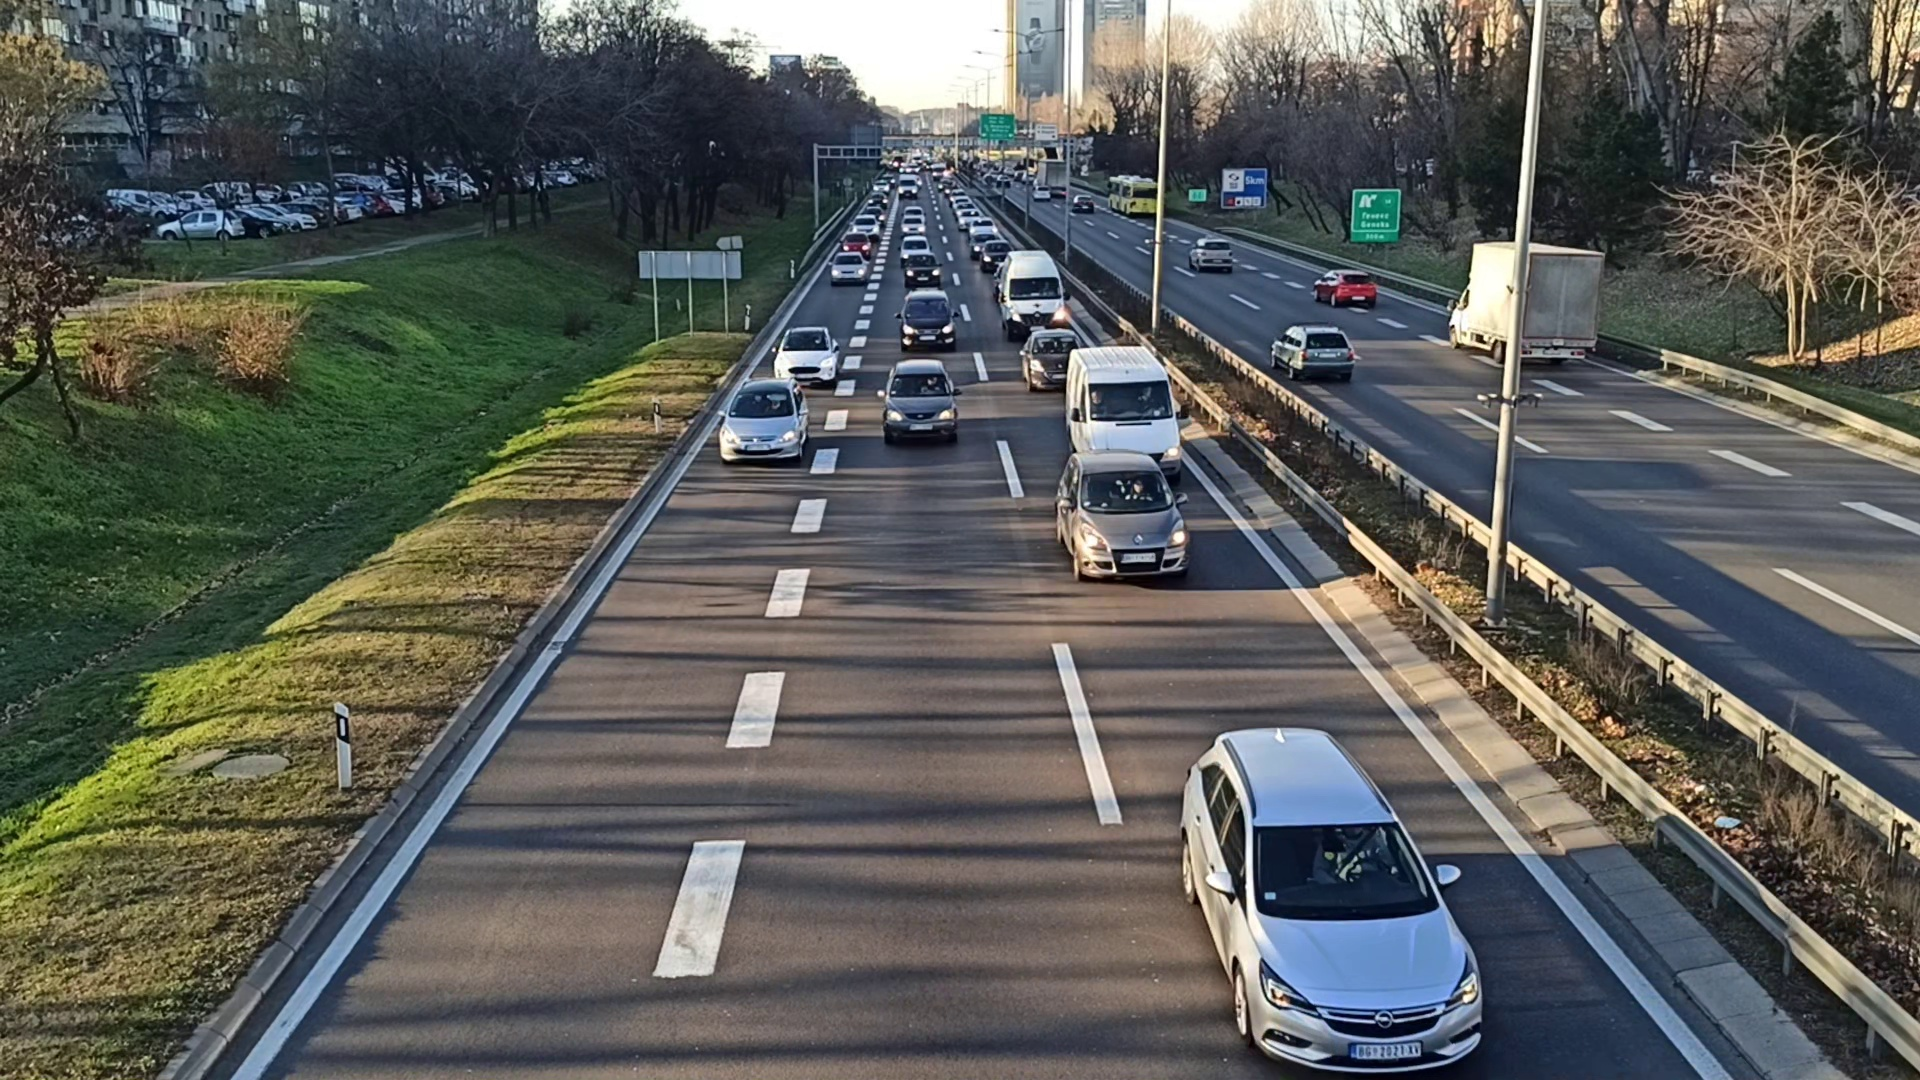bus: (1108, 175, 1156, 218)
car: (1176, 727, 1485, 1073), (1055, 448, 1189, 580), (880, 359, 963, 450), (720, 382, 810, 458), (1271, 324, 1354, 378), (771, 322, 835, 385), (1022, 330, 1085, 390), (898, 289, 957, 345), (1313, 268, 1374, 309), (1189, 236, 1232, 272), (903, 255, 942, 284), (829, 253, 865, 280)
van: (1447, 243, 1607, 367), (1065, 349, 1183, 479), (996, 247, 1068, 334)
